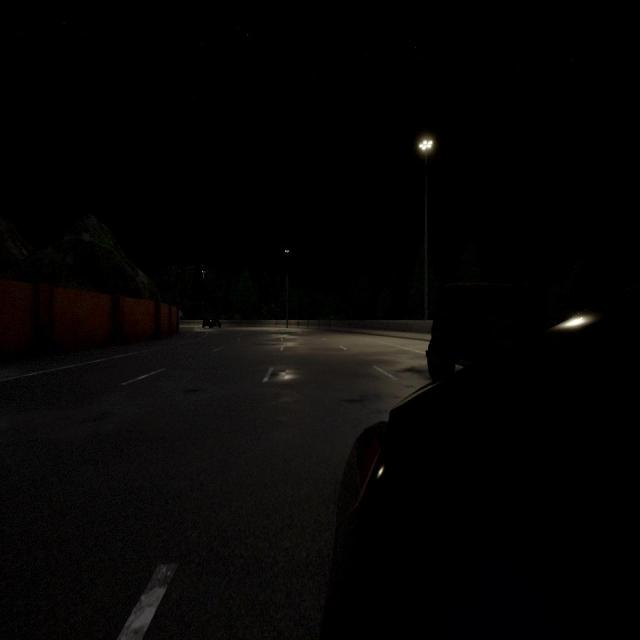Traffic_Signs: (179, 310, 182, 316)
Vehicle: (321, 286, 639, 638), (426, 291, 552, 382), (202, 314, 222, 329)
